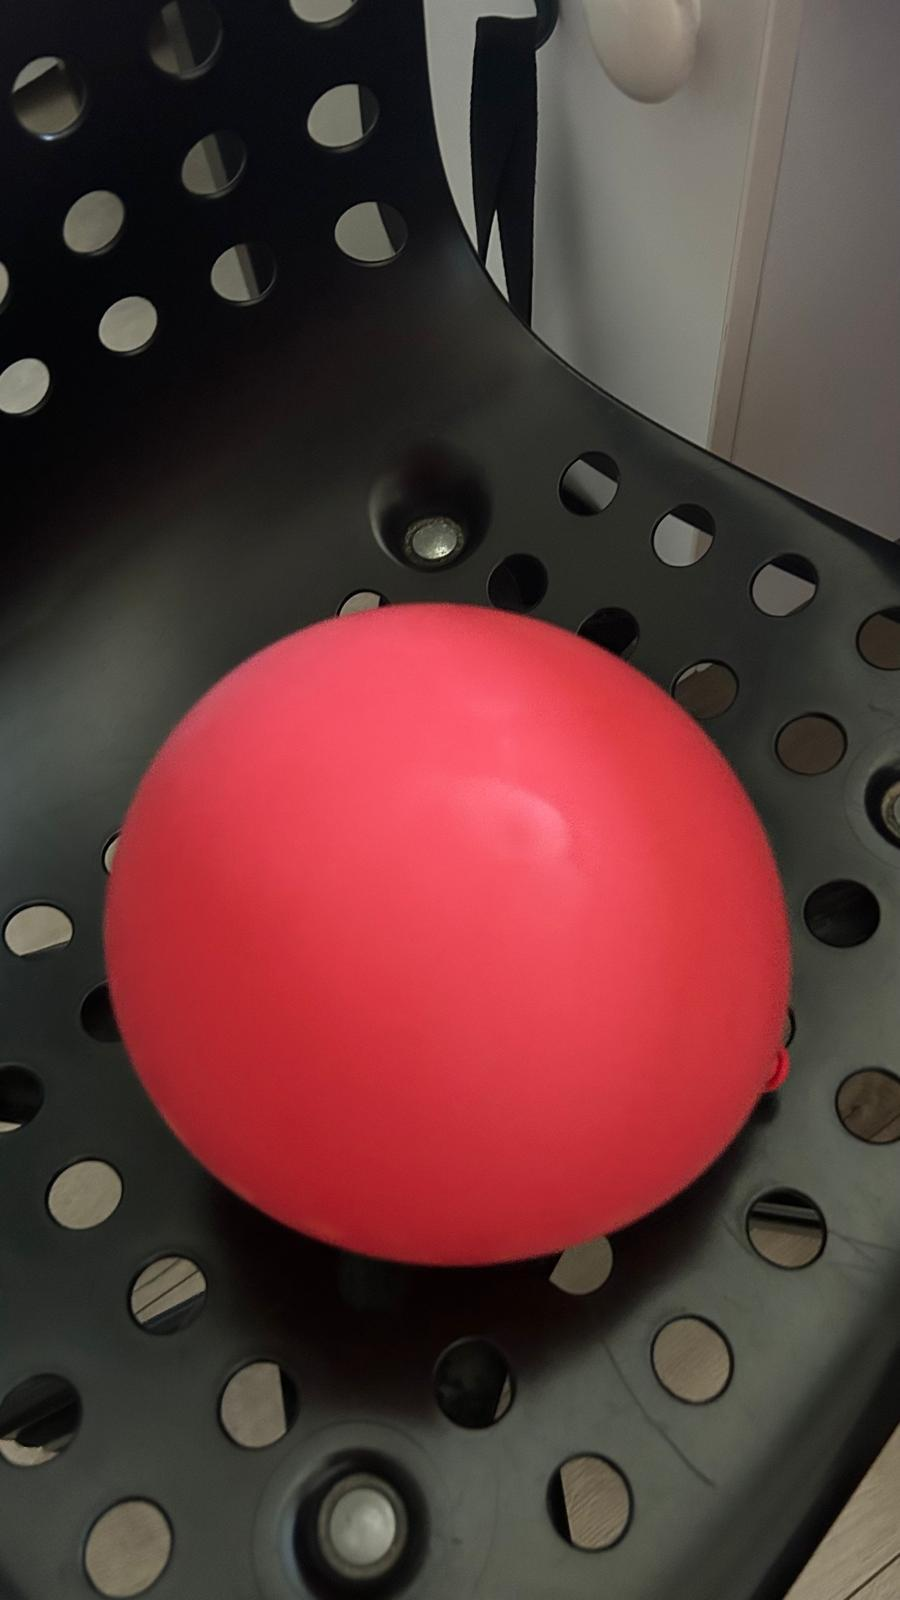red: (108, 598, 798, 1251)
